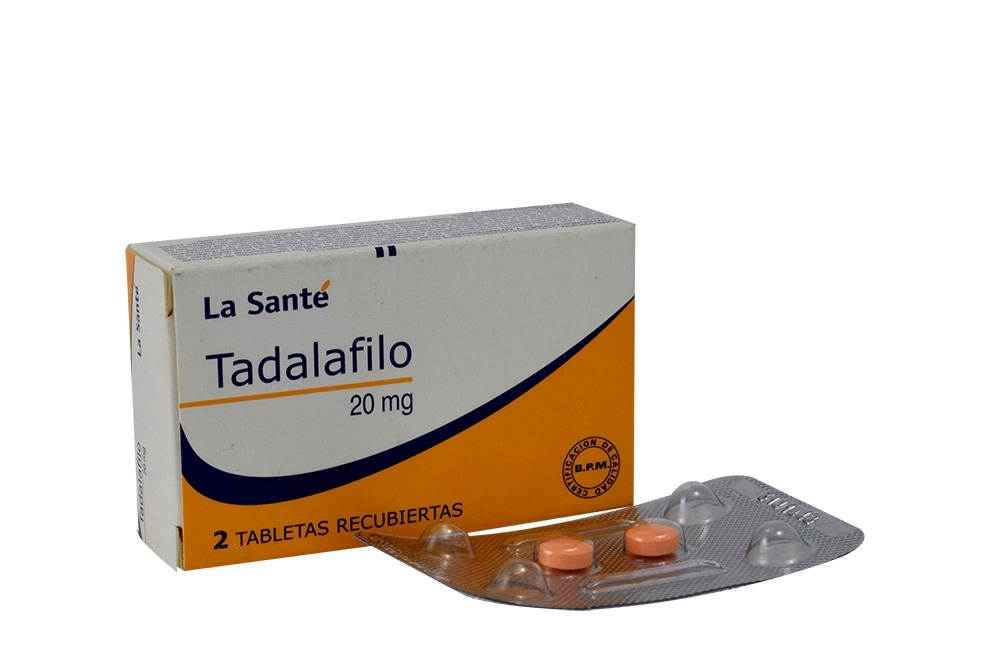LaSante: (180, 240, 635, 561)
